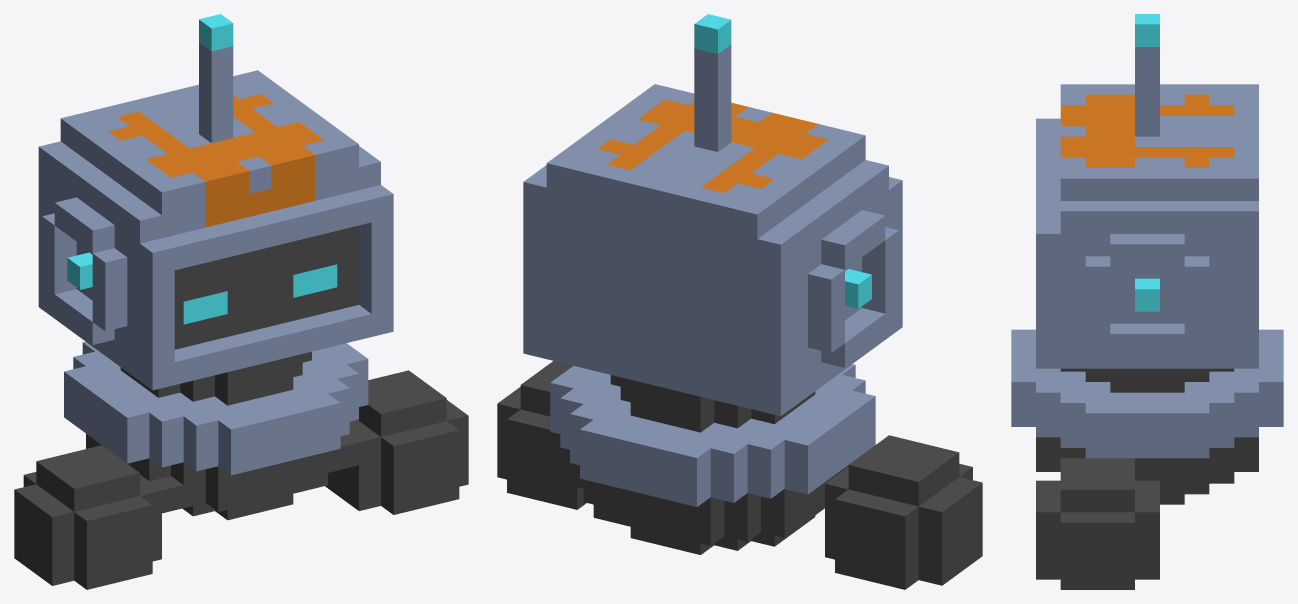
The model's file is robot3.glb.
3 views of the same model, side by side, from view 1: azimuth 30°, elevation 25°; view 2: azimuth 150°, elevation 25°; view 3: azimuth 270°, elevation 25° (orthographic). The views are drawn at different scales.
Bounding box in the file's own units: 19 × 21 × 11.
Materials: 1 (1 with a texture image).
